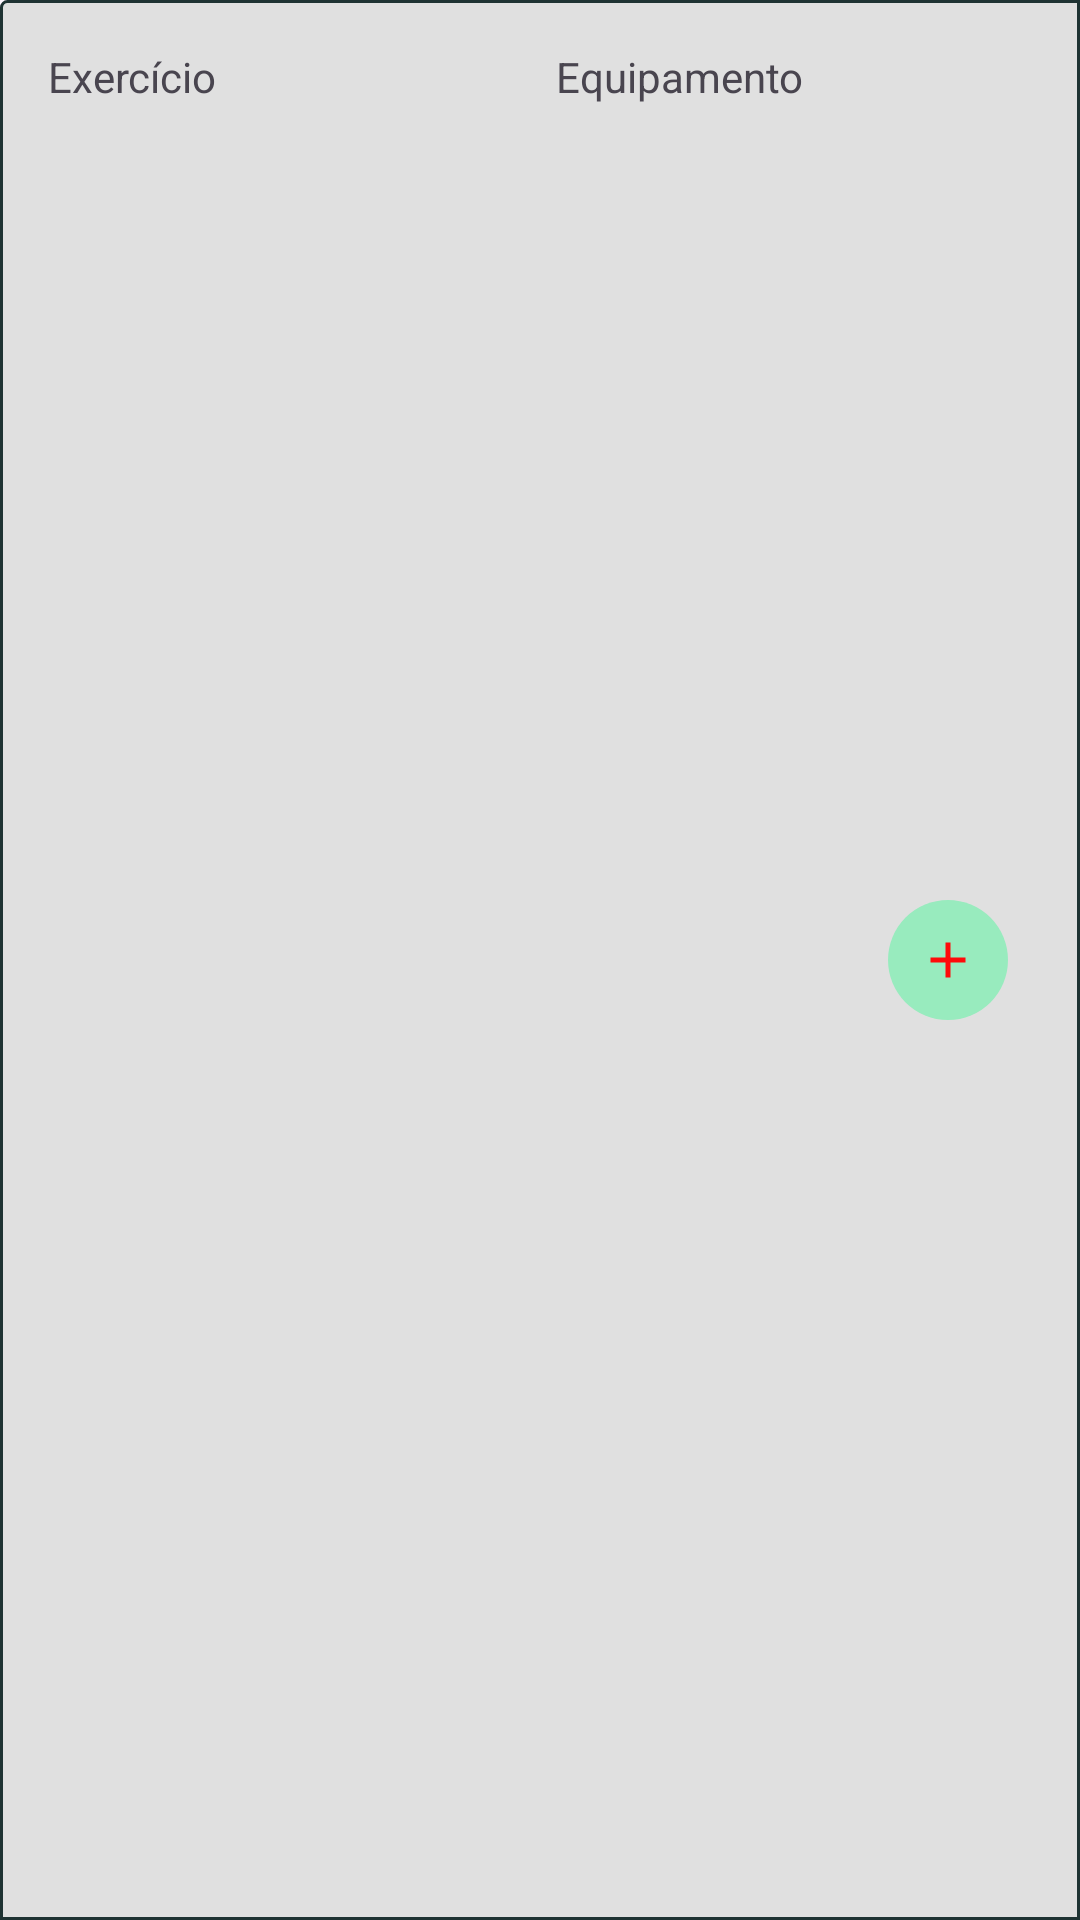

Icons on this 1080 x 1920 Android screen, each with the point to tap as (x,y):
add: (948,960)
